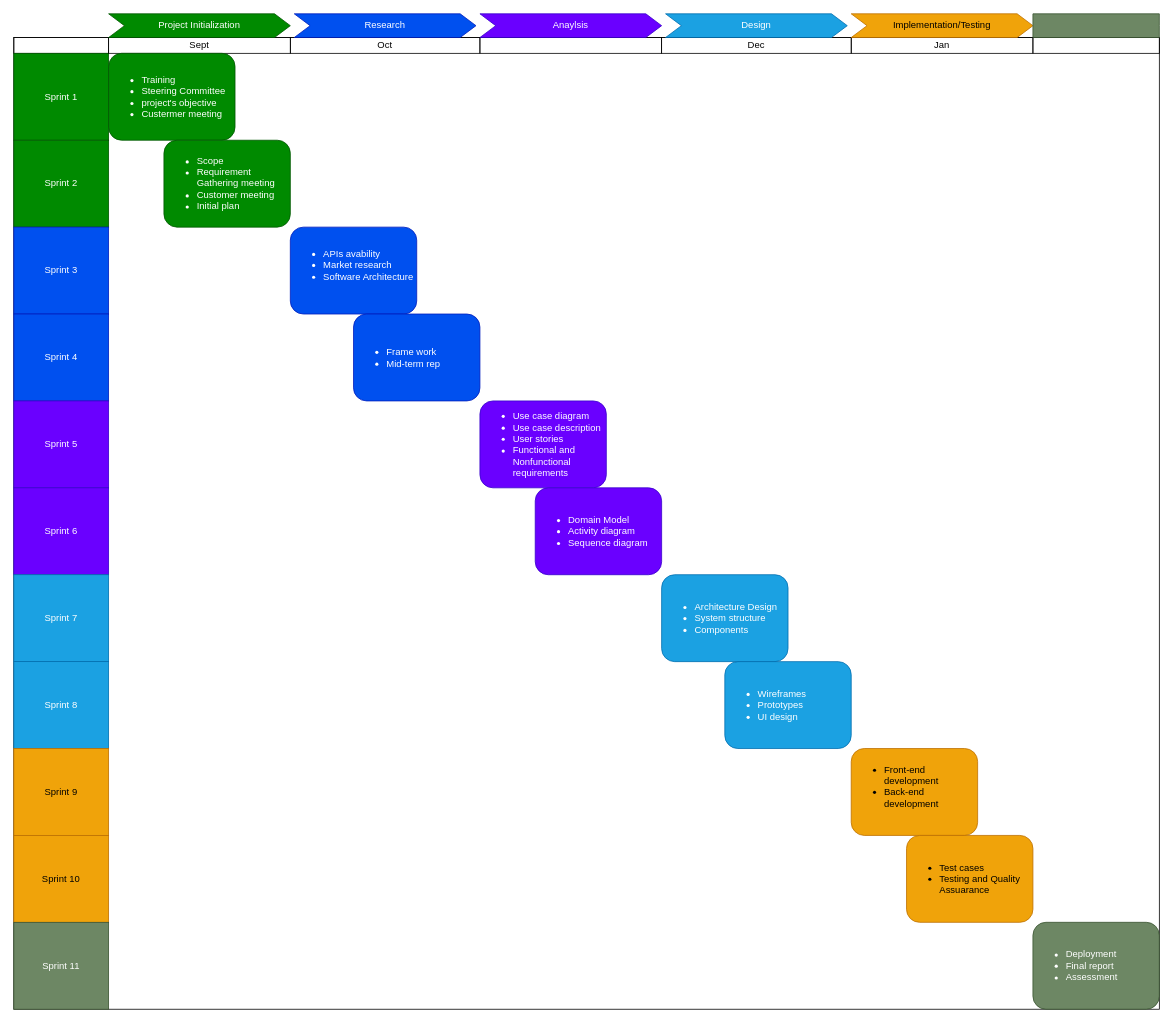
Image size: 1173x1023. Some labels were removed from this diagram. Here are the shapes that lost their labels. From the top down, the centre of each, then its label:
pixel 61 45: Sprints
pixel 1095 25: closeout
pixel 1095 45: Feb
